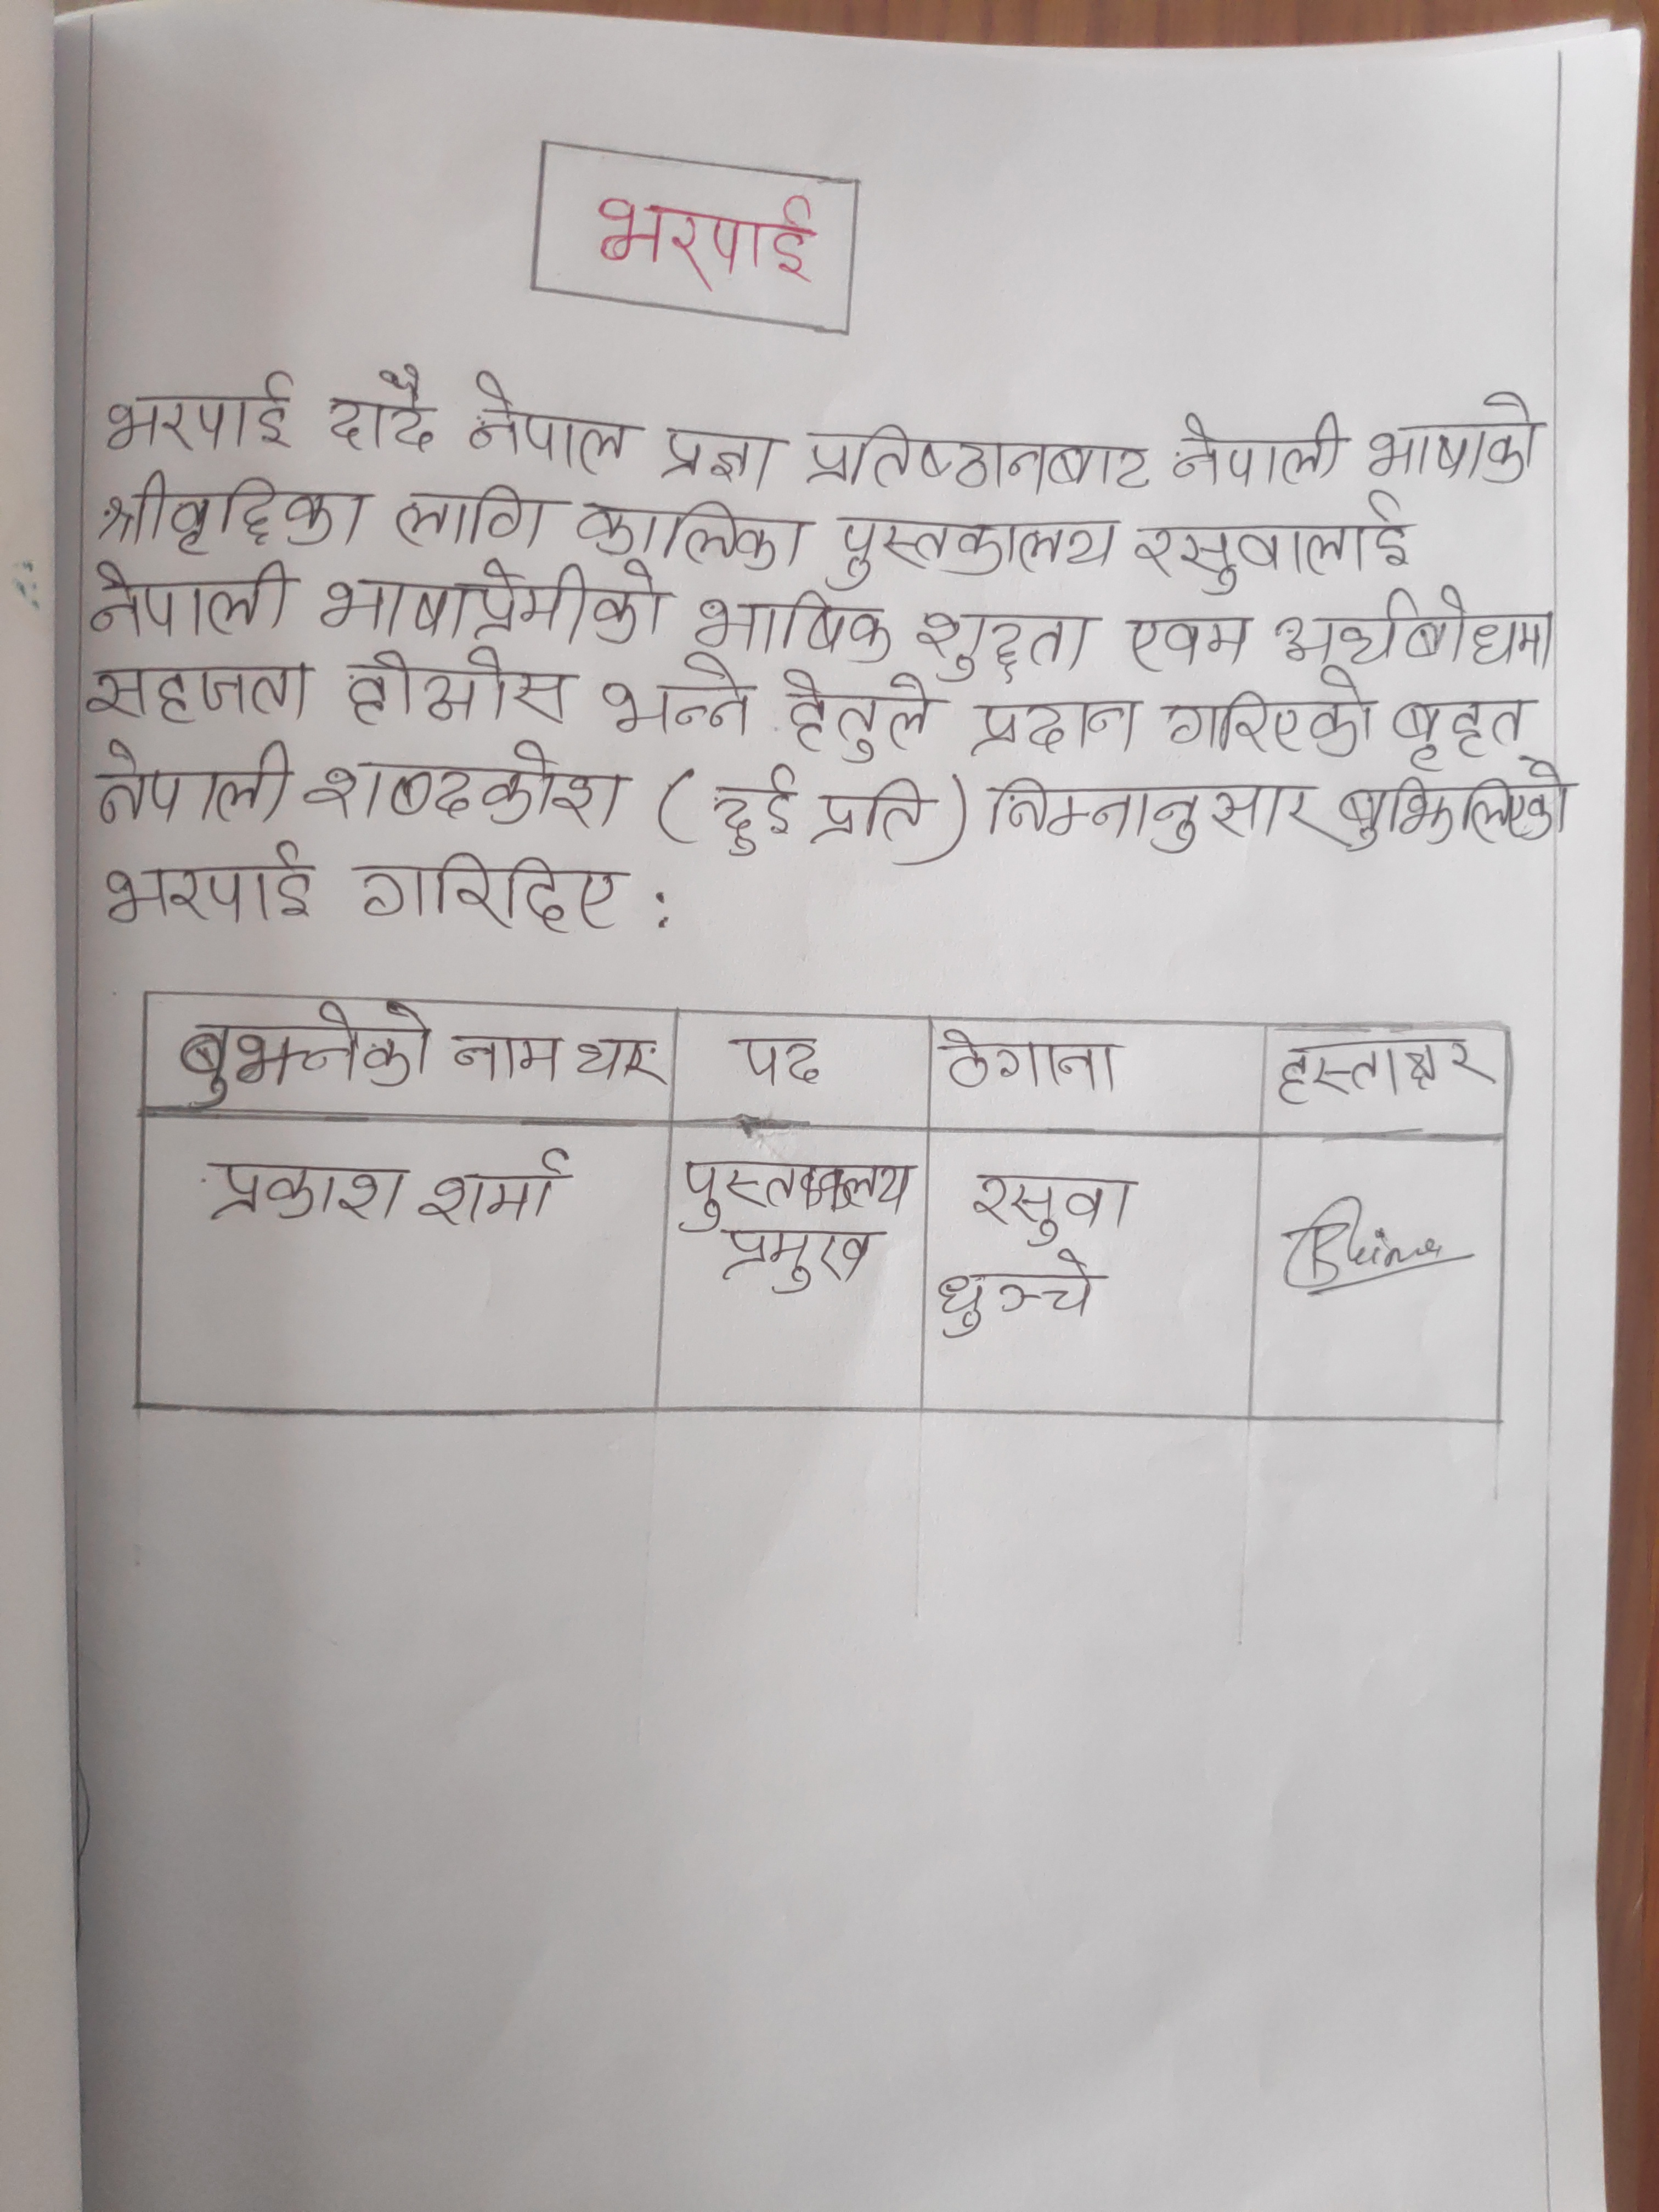text: (310, 735, 636, 833), (1129, 489, 1420, 597), (979, 765, 1324, 855), (174, 989, 436, 1104), (317, 563, 669, 648), (803, 415, 1159, 493), (354, 853, 627, 944), (96, 465, 369, 552), (826, 510, 1121, 590), (592, 190, 817, 293), (1279, 583, 1544, 669), (85, 737, 298, 831), (108, 836, 321, 930), (1335, 768, 1567, 852), (674, 1146, 918, 1224), (573, 493, 816, 571), (1155, 676, 1382, 759), (464, 368, 634, 477), (343, 650, 573, 730), (1361, 387, 1547, 484), (694, 578, 894, 664), (927, 1247, 1105, 1343), (82, 561, 293, 641), (78, 653, 312, 725), (101, 369, 296, 455), (211, 1155, 406, 1238), (591, 643, 758, 738), (1162, 402, 1347, 488), (775, 669, 941, 763), (1283, 1036, 1493, 1109), (910, 604, 1098, 681), (971, 1169, 1141, 1251), (416, 1150, 568, 1238), (934, 1026, 1126, 1094), (389, 475, 558, 552), (328, 359, 443, 462), (971, 690, 1143, 758), (1392, 686, 1527, 773), (721, 1224, 870, 1296), (652, 415, 793, 489), (1126, 601, 1256, 678), (702, 773, 798, 864), (810, 779, 931, 843), (455, 1021, 565, 1090), (727, 1031, 824, 1089), (579, 1028, 664, 1090)
